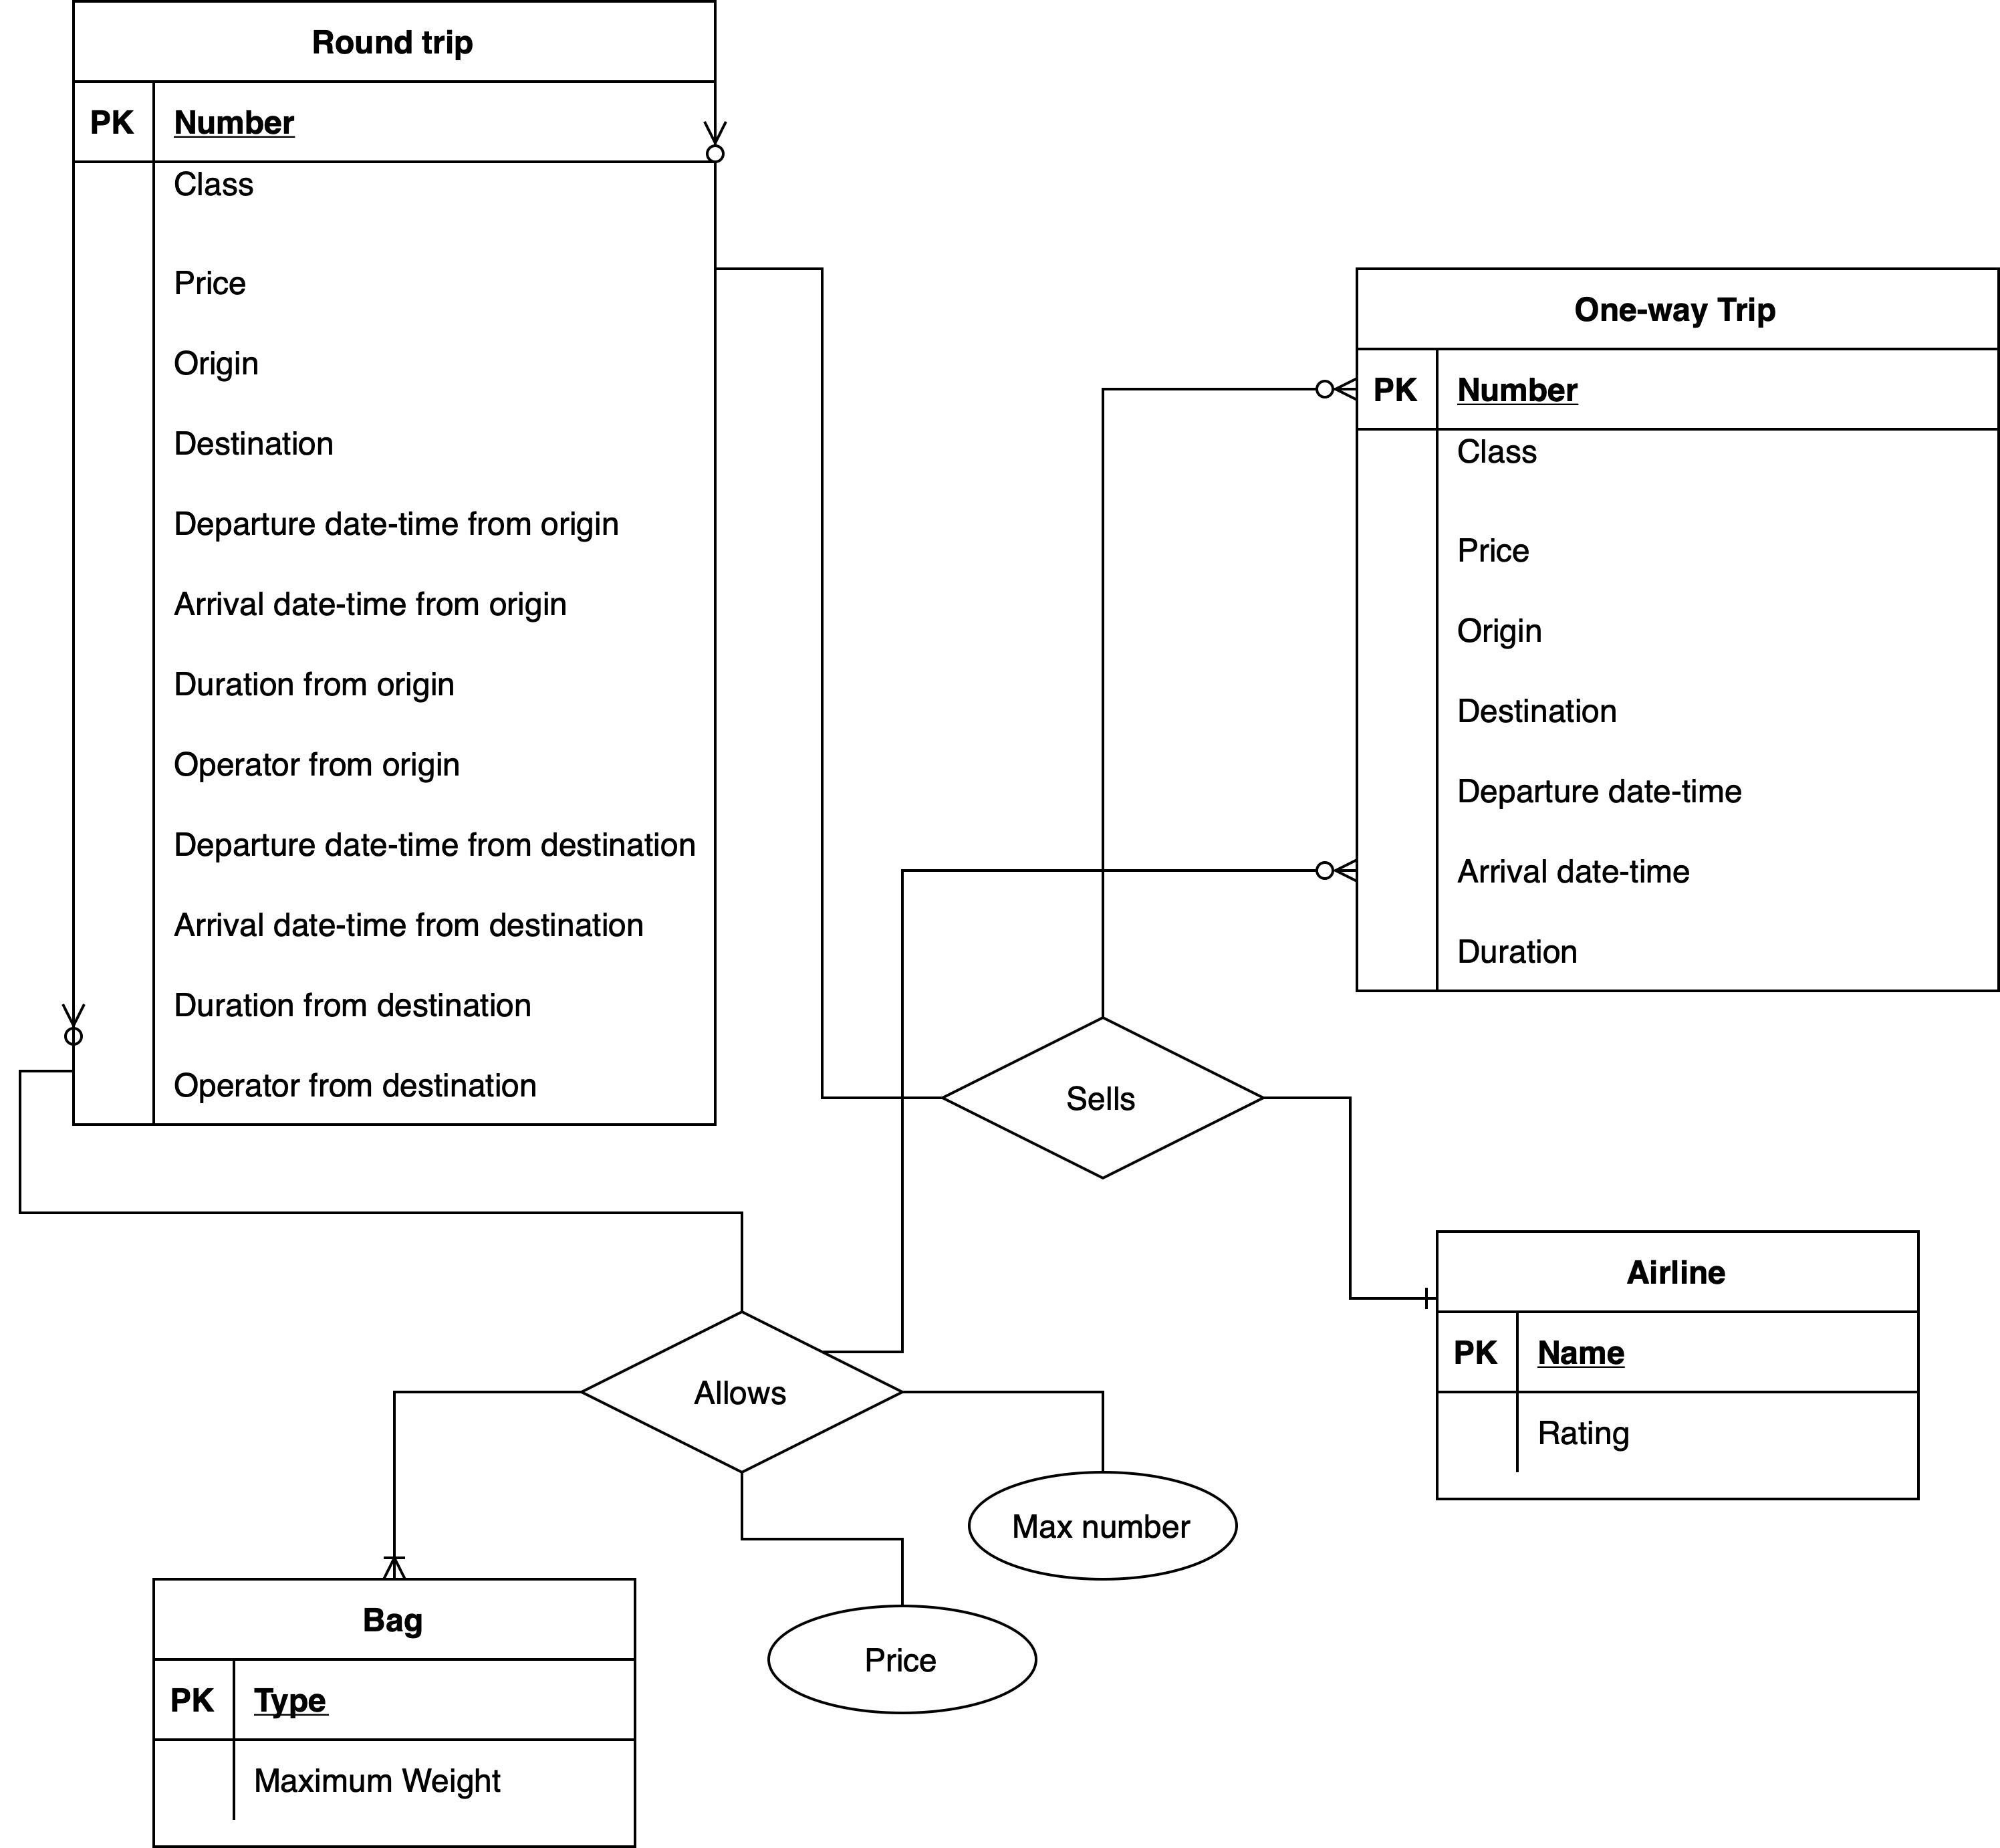attribute: (765, 1602, 1045, 1714), (969, 1472, 1244, 1582)
entity: (70, 0, 721, 1129), (1354, 263, 2000, 993), (1434, 1228, 1922, 1512), (143, 1576, 639, 1848)
relationship: (943, 1017, 1267, 1190), (585, 1315, 901, 1467)
